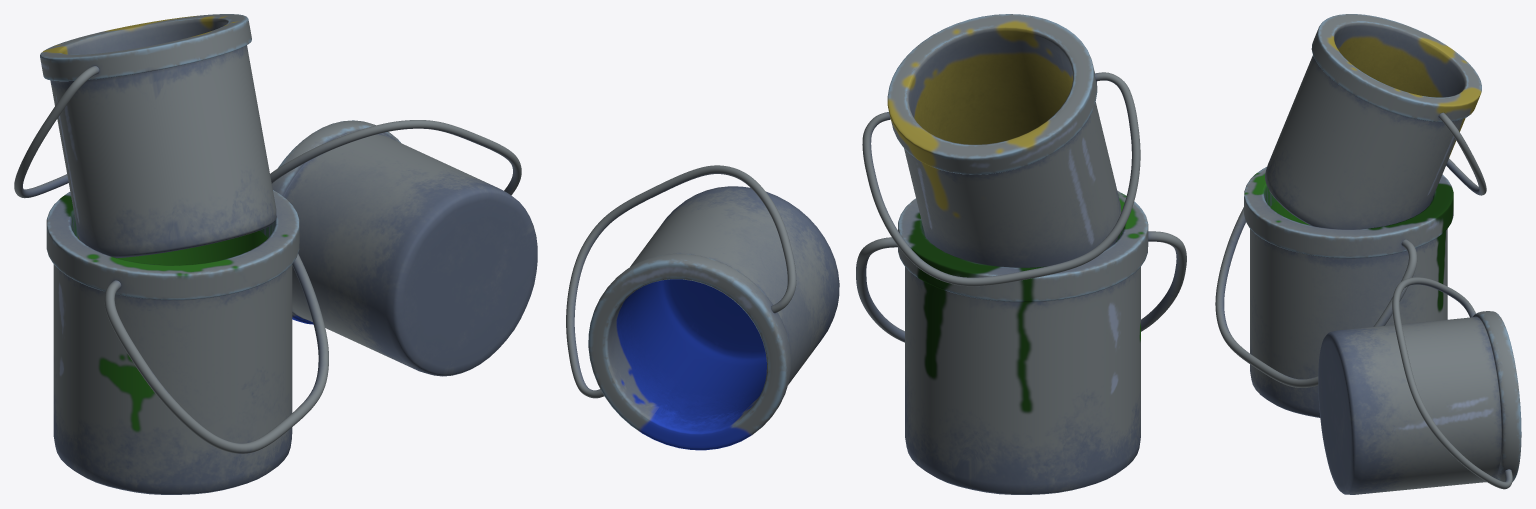
Rendered from PaintBuckets_Textured.fbx.
3 views of the same model, side by side, from view 1: azimuth 30°, elevation 25°; view 2: azimuth 150°, elevation 25°; view 3: azimuth 270°, elevation 25° (orthographic). The views are drawn at different scales.
Visible parts, largest first — view 1: pb_02 (×2), pb_03, pb_01 (×3); view 2: pb_02 (×2), pb_03, pb_01 (×3); view 3: pb_02 (×2), pb_03, pb_01 (×3).
Part boxes in pixels (x1=…): pb_02 (×2): x1=40, y1=14, x2=537, y2=376; pb_03: x1=46, y1=190, x2=299, y2=494; pb_01 (×3): x1=14, y1=66, x2=521, y2=453; pb_02 (×2): x1=588, y1=14, x2=1121, y2=450; pb_03: x1=898, y1=191, x2=1148, y2=494; pb_01 (×3): x1=566, y1=72, x2=1186, y2=398; pb_02 (×2): x1=1265, y1=14, x2=1521, y2=494; pb_03: x1=1244, y1=167, x2=1453, y2=417; pb_01 (×3): x1=1215, y1=112, x2=1512, y2=489.
Size of the model in its own units: 1.67 by 1.26 by 1.
Materials: 1 (1 with a texture image).
